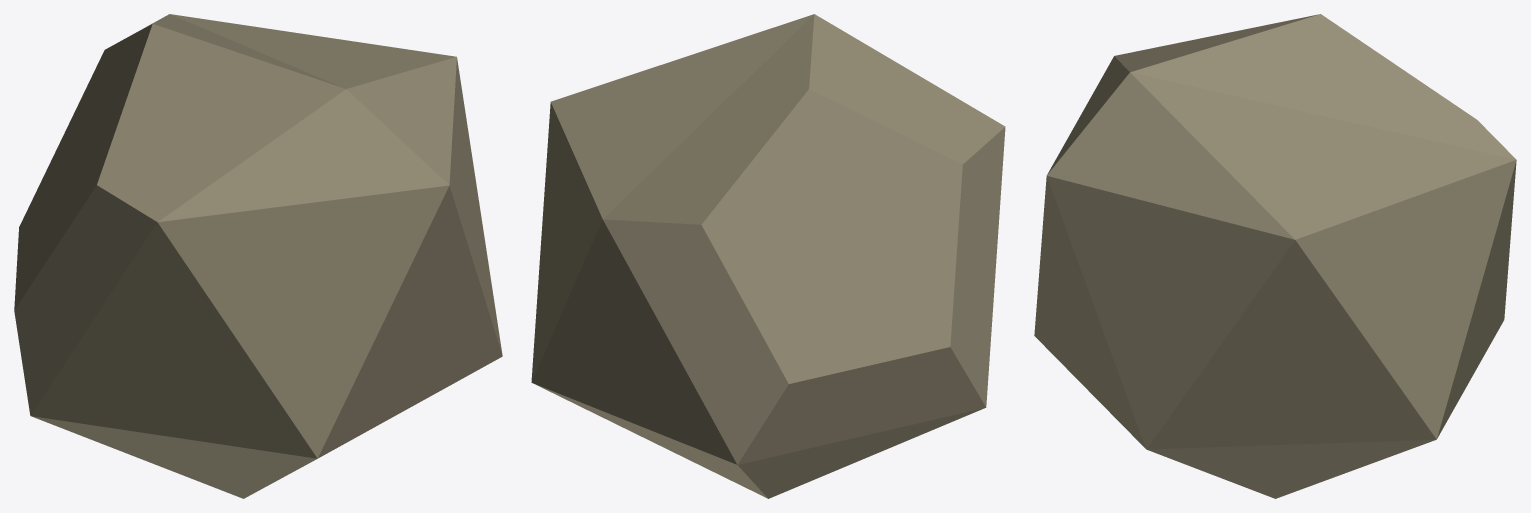
File: Stone2.fbx
3 views of the same model, side by side, from view 1: azimuth 30°, elevation 25°; view 2: azimuth 150°, elevation 25°; view 3: azimuth 270°, elevation 25° (orthographic). The views are drawn at different scales.
Parts seen in each view (by area): view 1: Icosphere.002; view 2: Icosphere.002; view 3: Icosphere.002.
Boxes of the visible parts, <box> form: Icosphere.002: <box>14,14,502,498</box>; Icosphere.002: <box>531,14,1005,498</box>; Icosphere.002: <box>1034,14,1516,498</box>.
Bounding box in the file's own units: 178 × 181 × 174.
